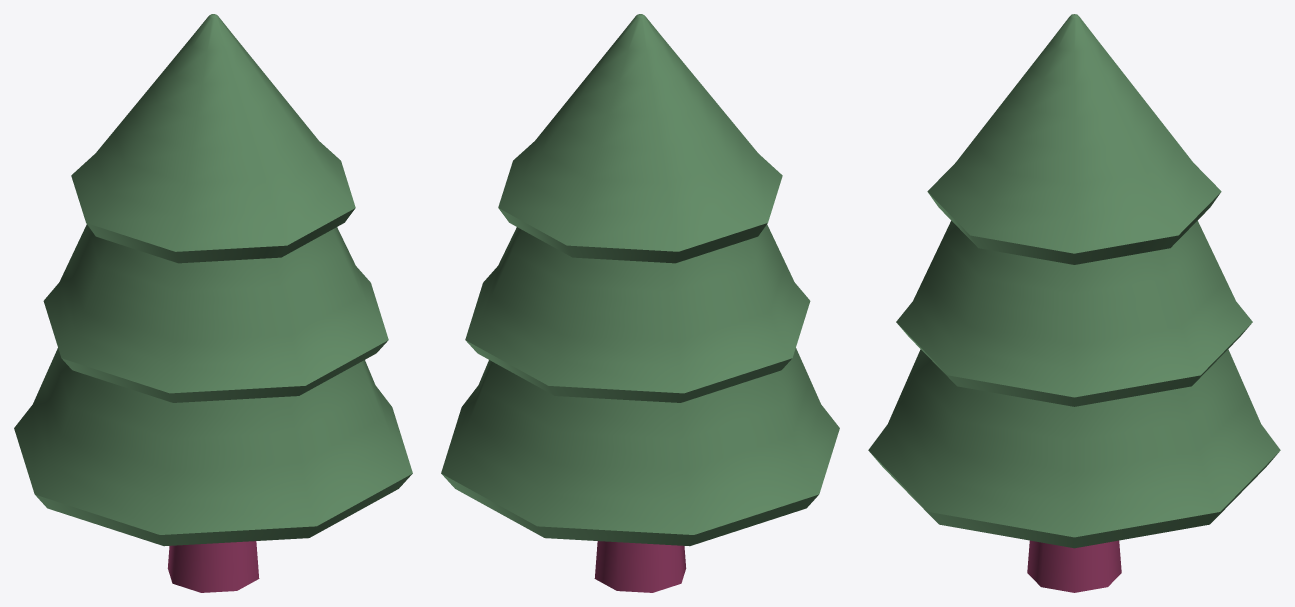
File: Resource Tree (v.1).fbx
The picture shows the model from 3 angles, left to right: view 1: azimuth 30°, elevation 25°; view 2: azimuth 150°, elevation 25°; view 3: azimuth 270°, elevation 25°; orthographic projection.
Parts seen in each view (by area): view 1: tree; view 2: tree; view 3: tree.
Part boxes in pixels (x1,y1,x2,y2): tree: (14, 14, 412, 592); tree: (441, 14, 839, 592); tree: (868, 14, 1280, 592).
Bounding box in the file's own units: 134 × 200 × 134.
